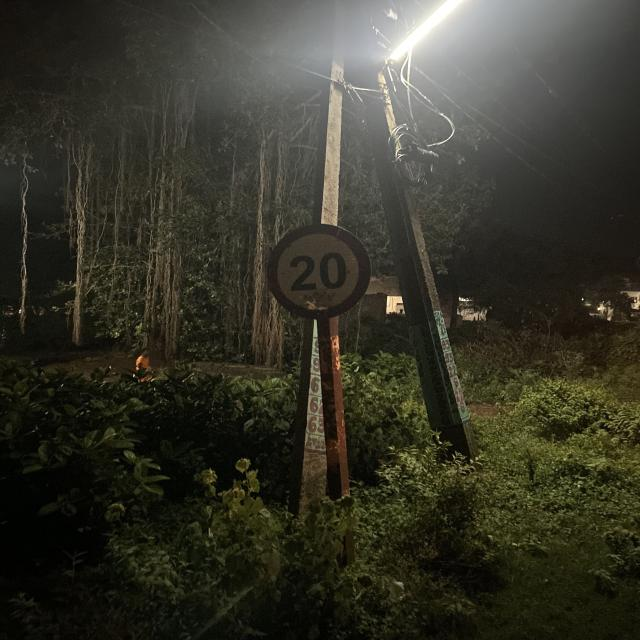speedlimit_20: (254, 224, 368, 322)
